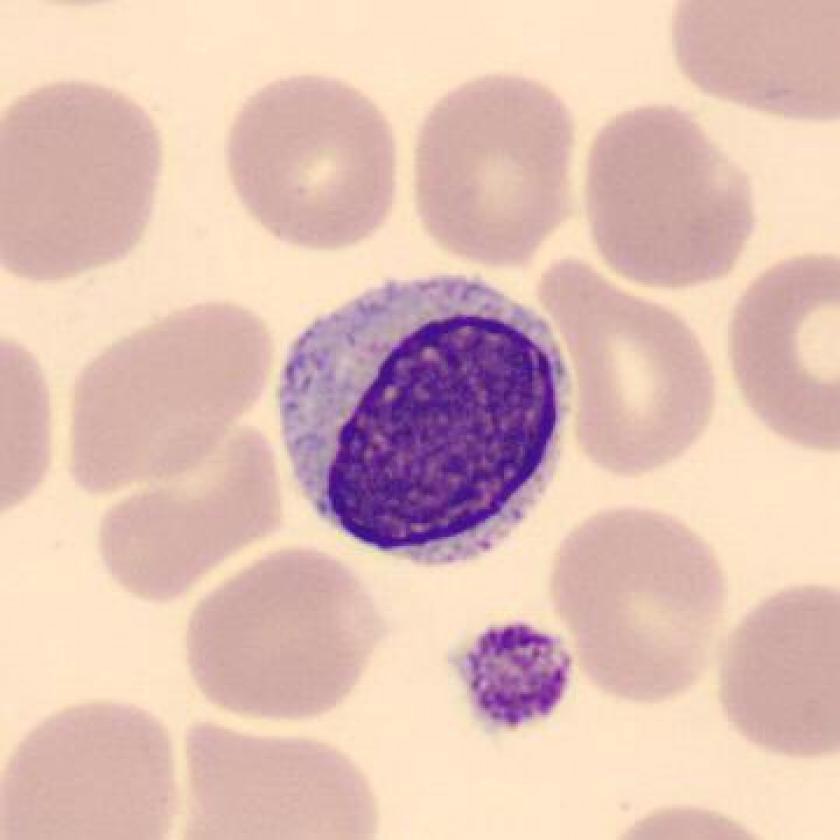lymphocyte: (260, 256, 587, 589)
platelets: (444, 617, 581, 739)
